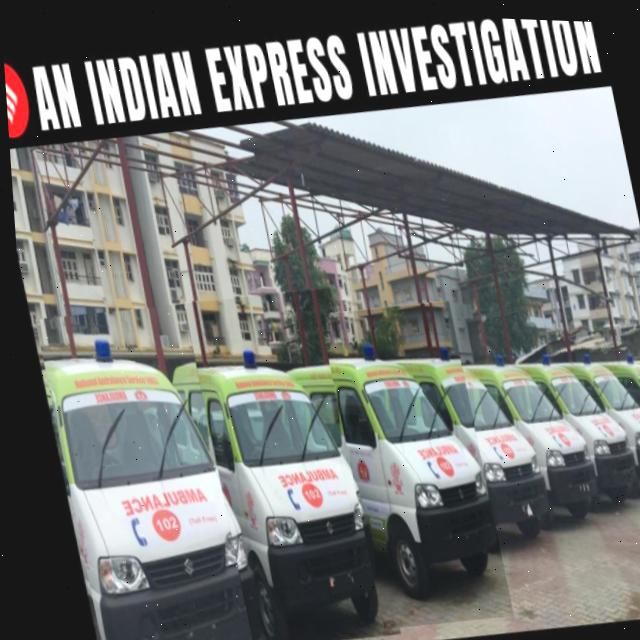Ambulance: (30, 296, 263, 640), (177, 281, 394, 640), (314, 294, 507, 630)
